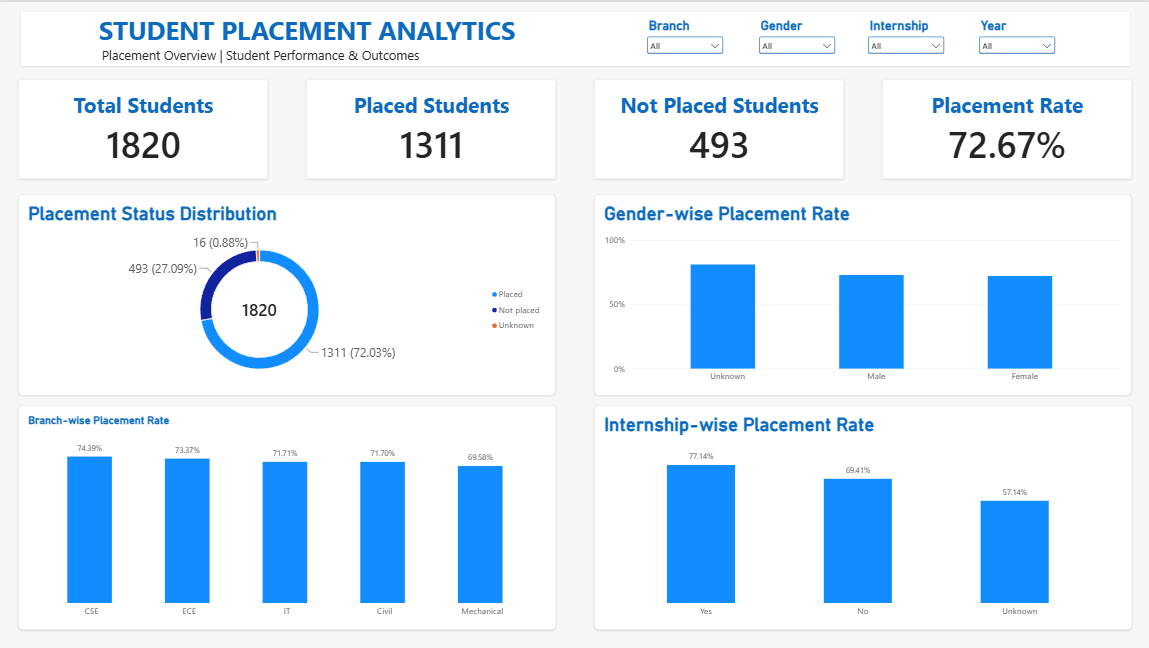

The page's visual inventory and layout, read from the dashboard file:
{"tool":"powerbi","page":{"name":"Page 1","canvas":[1920,1080],"ordinal":0},"visuals":[{"type":"cardVisual","title":"Total Students","fields":{"Data":["CountNonNull(Student_clean_data.Total Students)"]},"box":[32,128,416.7,166.7],"z":0},{"type":"cardVisual","fields":{"Data":["Student_clean_data.Placed Students"]},"box":[512,128,416.7,166.7],"z":1000},{"type":"cardVisual","fields":{"Data":["Student_clean_data.Placed Test"]},"box":[992,128,416.7,166.7],"z":2000},{"type":"donutChart","title":"Placement Status Distribution","fields":{"Category":["Student_clean_data.Placement_Status"],"Y":["CountNonNull(Student_clean_data.Student_ID)"]},"box":[32,320,896,336],"z":3000},{"type":"clusteredColumnChart","title":"Branch-wise Placement Rate","fields":{"Category":["Student_clean_data.Branch"],"Y":["Student_clean_data.Placement Rate"]},"box":[31.7,671.7,896.7,375],"z":4000},{"type":"clusteredColumnChart","title":"Internship-wise Placement Rate","fields":{"Category":["Student_clean_data.Internship"],"Y":["Student_clean_data.Placement Rate"]},"box":[991.7,671.7,896.7,375],"z":5000},{"type":"clusteredColumnChart","title":"Gender-wise Placement Rate","fields":{"Category":["Student_clean_data.Gender"],"Y":["Student_clean_data.Placement Rate"]},"box":[992,320,896,336],"z":6000},{"type":"textbox","box":[36.7,16.7,1848.3,90],"z":7000},{"type":"cardVisual","fields":{"Data":["Student_clean_data.Placement Rate"]},"box":[1472,128,416.7,166.7],"z":8000},{"type":"slicer","fields":{"Values":["Student_clean_data.Branch"]},"box":[1075,26.7,136.7,68.3],"z":9000},{"type":"slicer","fields":{"Values":["Student_clean_data.Gender"]},"box":[1261.7,26.7,136.7,68.3],"z":10000},{"type":"slicer","fields":{"Values":["Student_clean_data.Internship"]},"box":[1443.3,26.7,136.7,70],"z":11000},{"type":"slicer","fields":{"Values":["Student_clean_data.Application_Date.Variation.Date Hierarchy.Year"]},"box":[1628.3,26.7,136.7,68.3],"z":12000}]}

Visuals, with their boxes in screenshot pixels (x1, y1, x2, y2), scaled from the page's 1920x1080 canvas onto the 1149x648 screenshot:
"Total Students" cardVisual: bbox=(19, 77, 269, 177)
cardVisual - Student_clean_data.Placed Students: bbox=(306, 77, 556, 177)
cardVisual - Student_clean_data.Placed Test: bbox=(594, 77, 843, 177)
"Placement Status Distribution" donutChart: bbox=(19, 192, 555, 394)
"Branch-wise Placement Rate" clusteredColumnChart: bbox=(19, 403, 556, 628)
"Internship-wise Placement Rate" clusteredColumnChart: bbox=(593, 403, 1130, 628)
"Gender-wise Placement Rate" clusteredColumnChart: bbox=(594, 192, 1130, 394)
textbox: bbox=(22, 10, 1128, 64)
cardVisual - Student_clean_data.Placement Rate: bbox=(881, 77, 1130, 177)
slicer - Student_clean_data.Branch: bbox=(643, 16, 725, 57)
slicer - Student_clean_data.Gender: bbox=(755, 16, 837, 57)
slicer - Student_clean_data.Internship: bbox=(864, 16, 946, 58)
slicer - Student_clean_data.Application_Date.Variation.Date Hierarchy.Year: bbox=(974, 16, 1056, 57)
